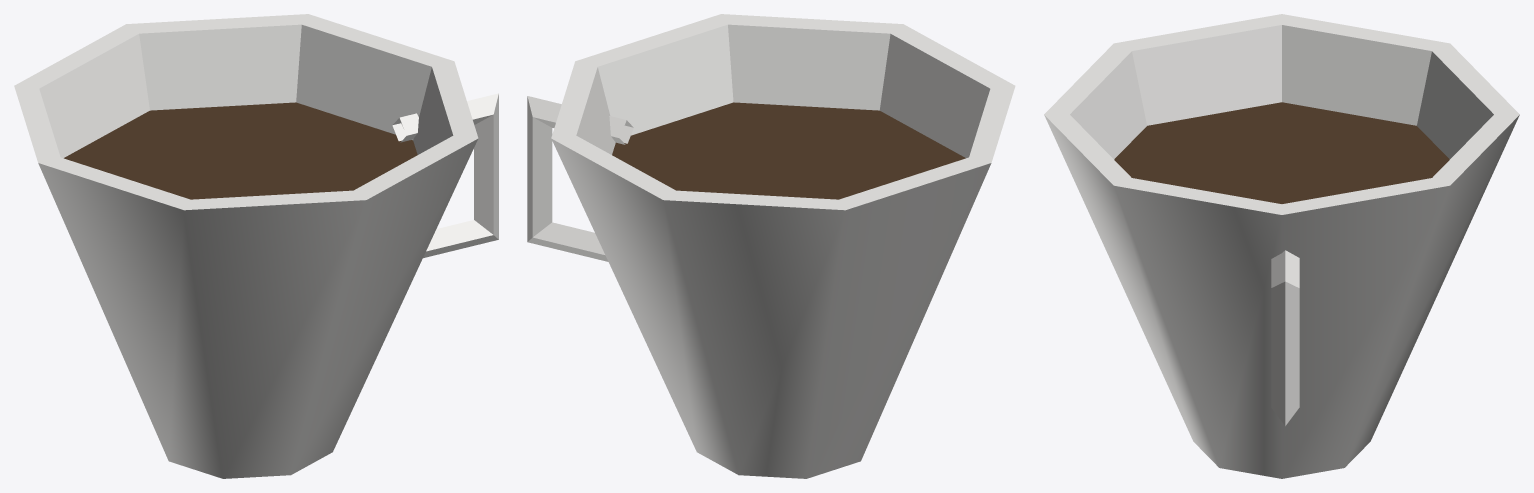
The model's file is SM_espresso.fbx.
3 renders of one model, left to right at view 1: azimuth 30°, elevation 25°; view 2: azimuth 150°, elevation 25°; view 3: azimuth 270°, elevation 25°, orthographic.
Parts seen in each view (by area): view 1: Line014; view 2: Line014; view 3: Line014.
Part boxes in pixels (x1,y1,x2,y2): Line014: (14,14,498,478); Line014: (527,14,1015,478); Line014: (1044,14,1519,478).
Bounding box in the file's own units: 5.02 × 4.52 × 3.43.
